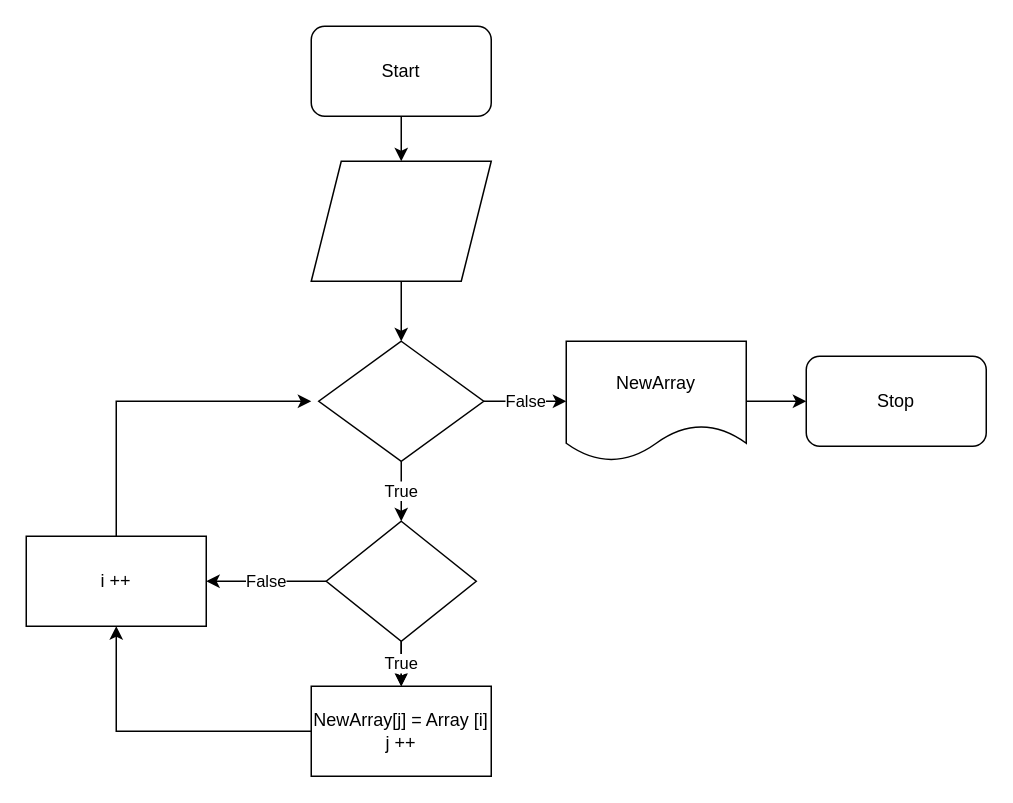
The diagram is 1013 pixels wide and 803 high, and some of its shapes have lost their labels. The shapes that lost their labels are listed below. From the top down, each one's box as (x1, y1, x2, y2) in pixels, then its label:
(310, 160, 491, 281): Array[] NewArray[] n = 3 i = 0 j = 0
(317, 340, 484, 461): i < Array.Lenght
(325, 520, 476, 641): Array[i] <= 3
